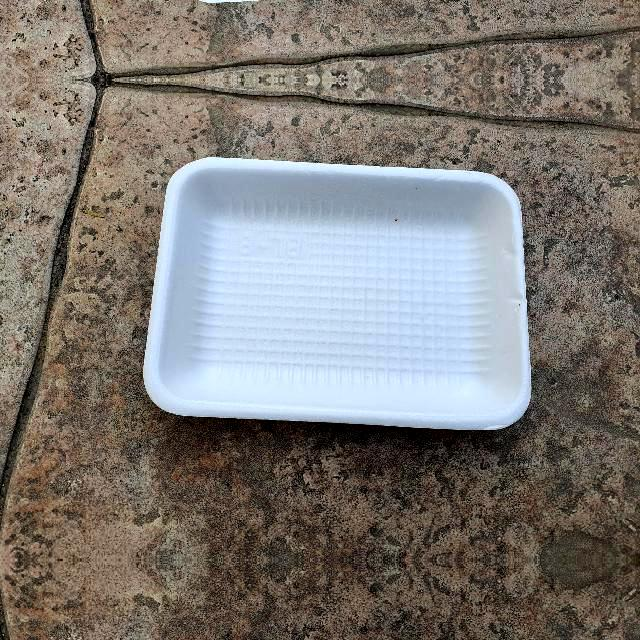Styrofoam: (142, 155, 534, 433), (143, 157, 532, 430)
